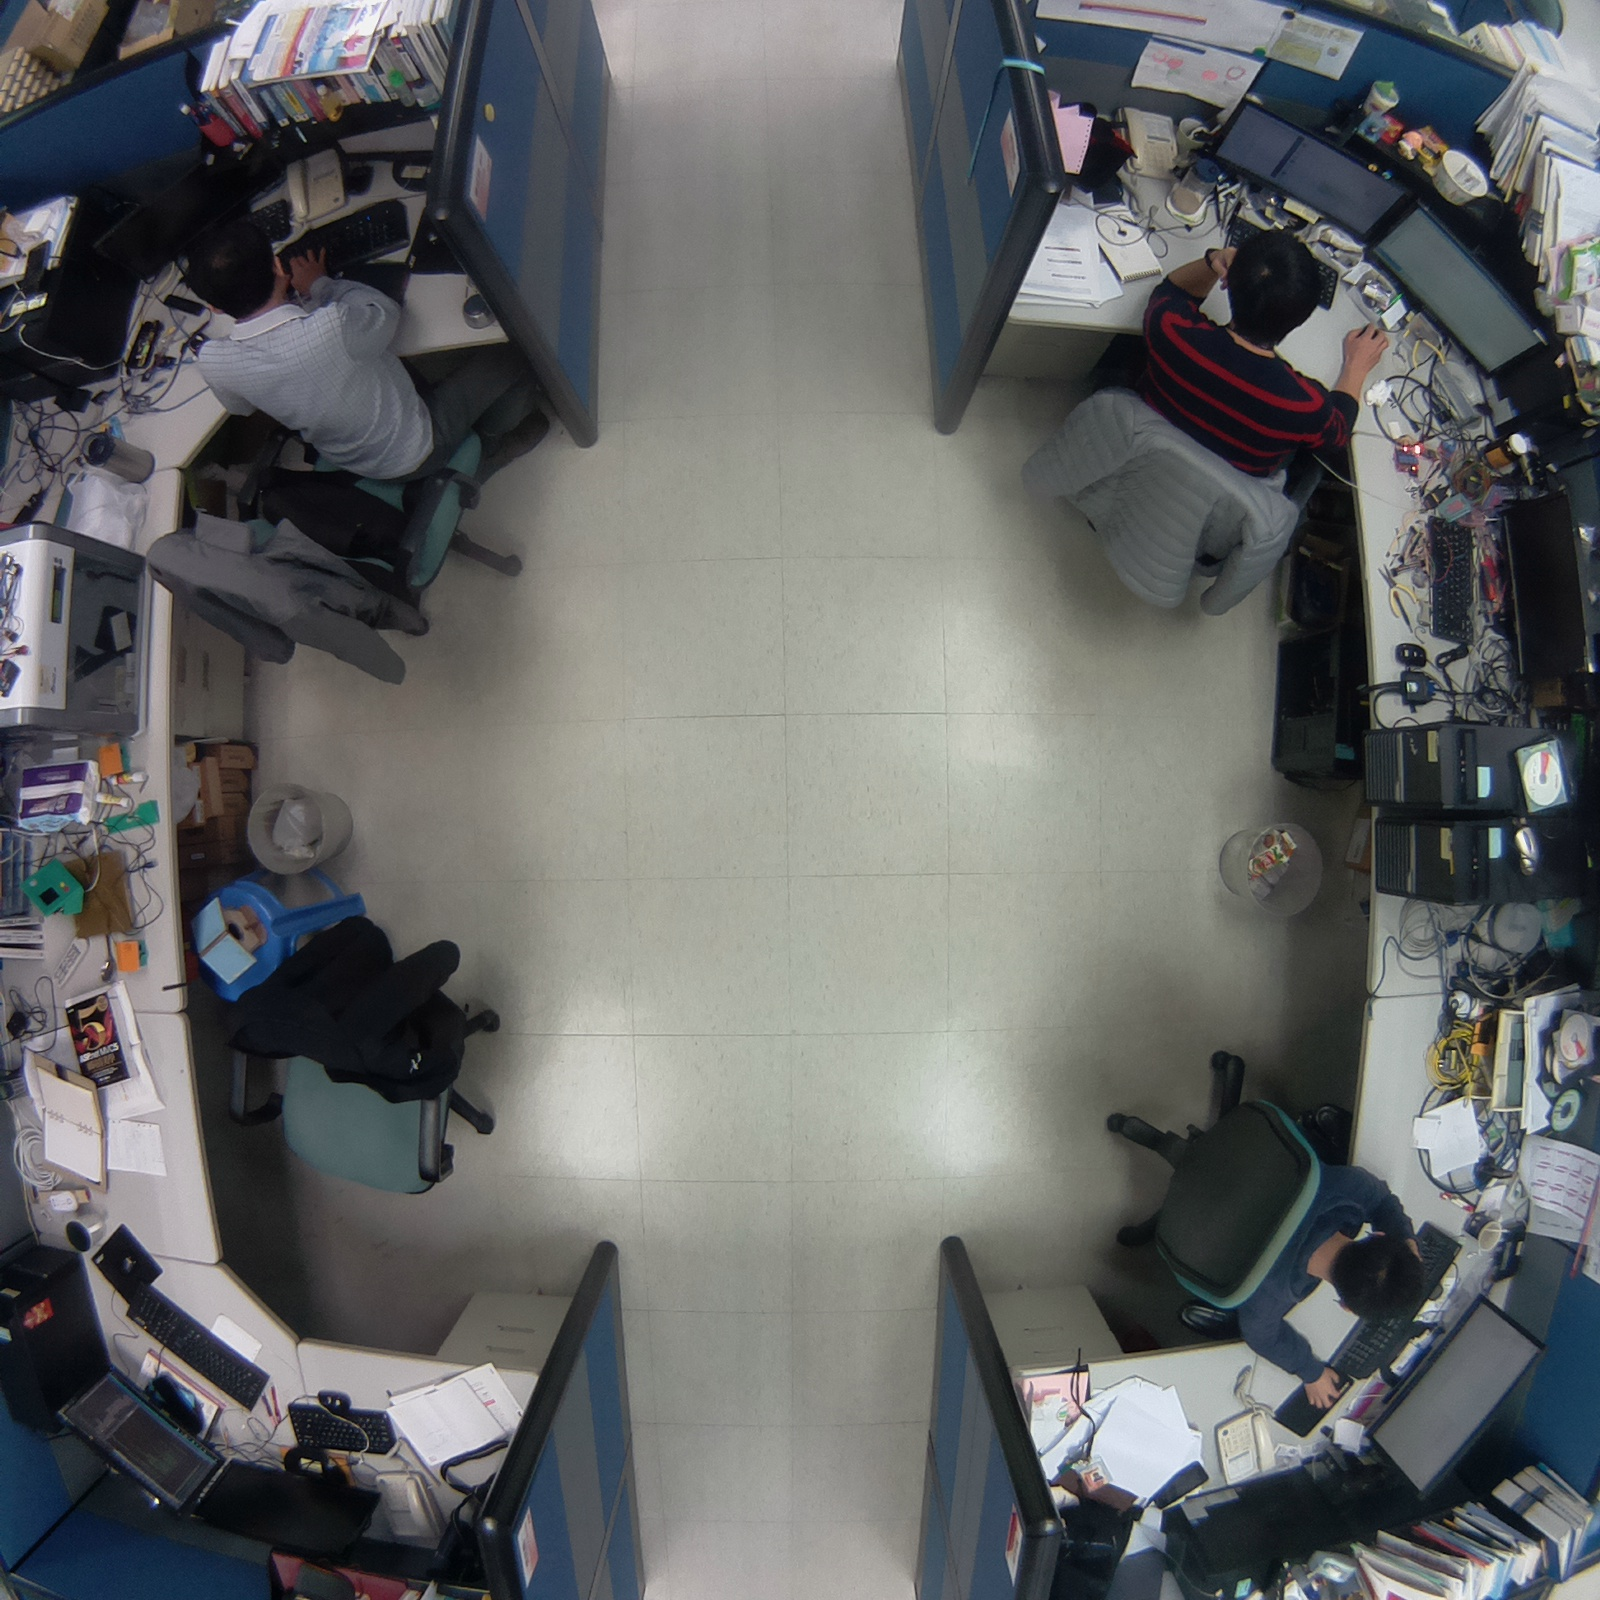chair: (217, 901, 529, 1209)
head: (1221, 225, 1336, 348), (176, 214, 291, 325), (1325, 1227, 1434, 1334)
sitting: (124, 196, 555, 693), (996, 204, 1412, 634), (1091, 1032, 1442, 1417)
